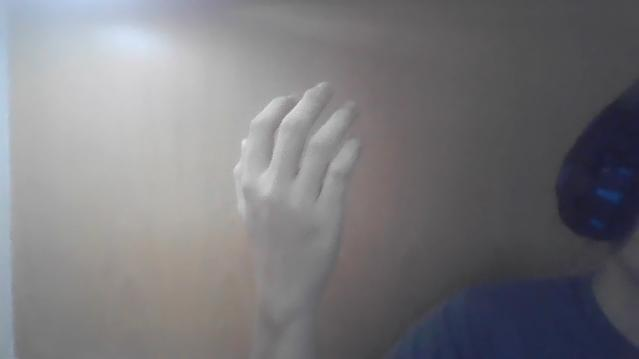backword: (231, 79, 363, 355)
